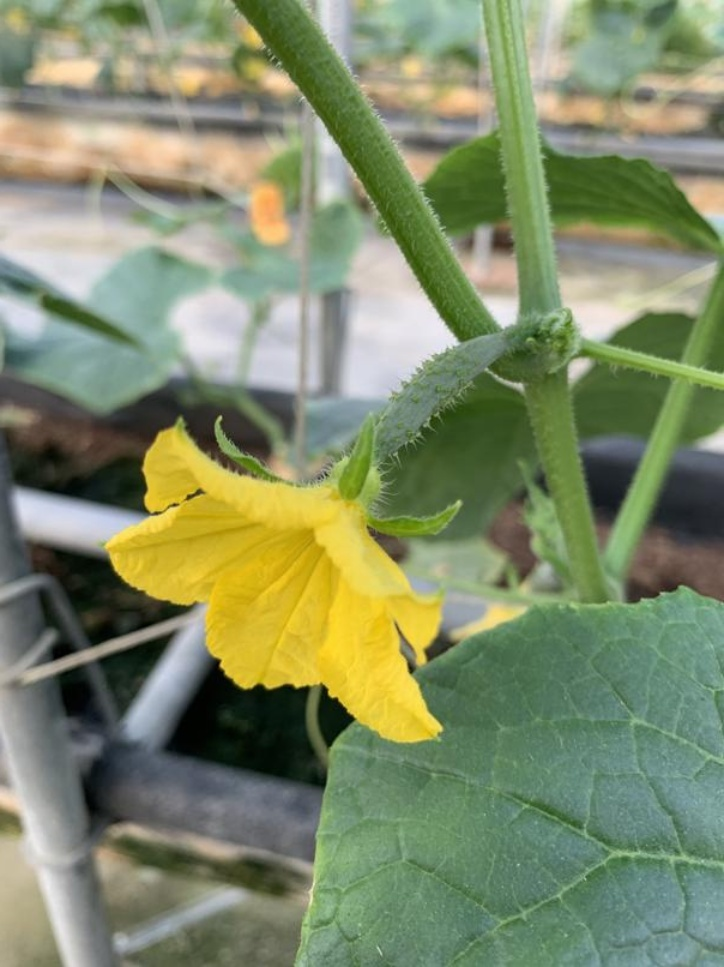flowering: (94, 321, 544, 738)
